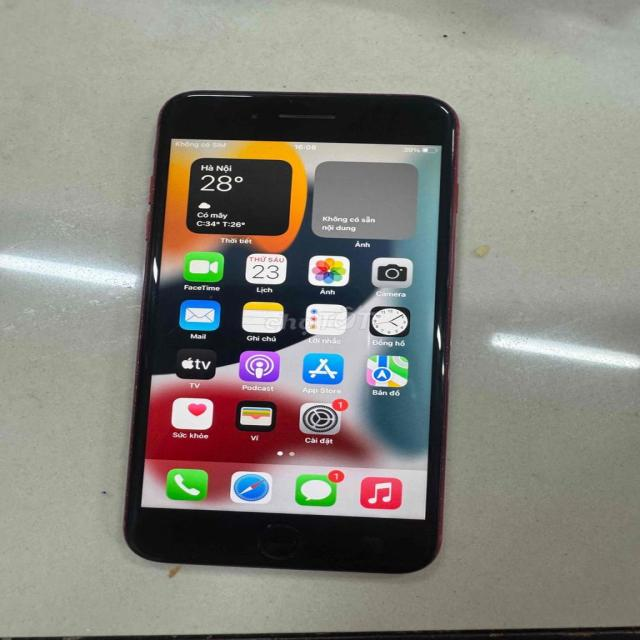gen_7_8: (132, 83, 452, 584)
